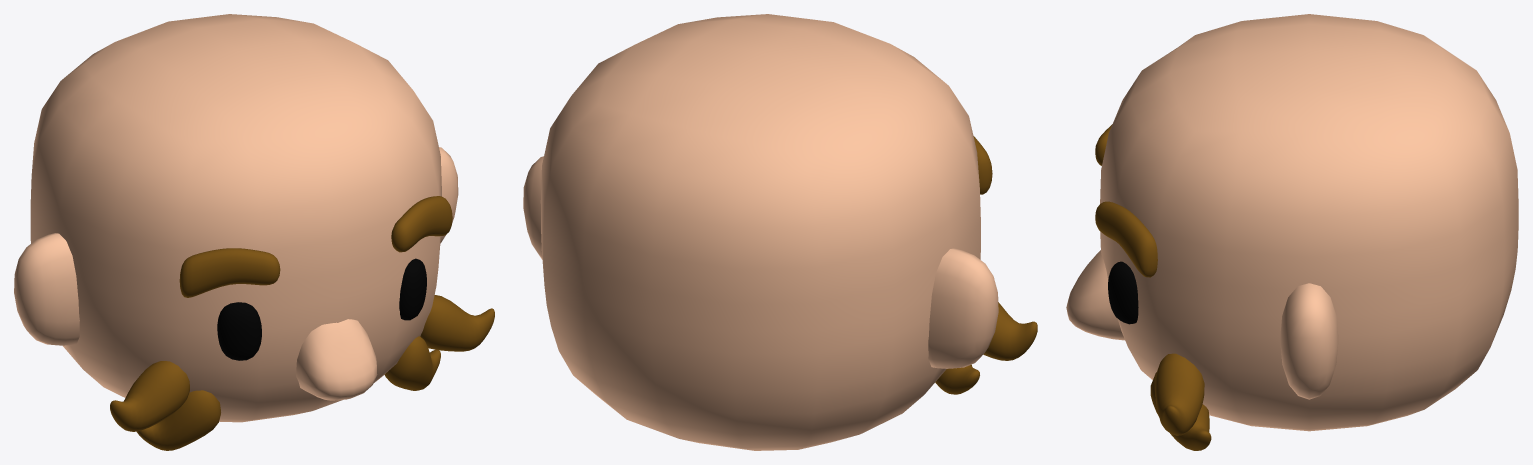
File: Pirate_Head5.fbx
The picture shows the model from 3 angles, left to right: view 1: azimuth 30°, elevation 25°; view 2: azimuth 150°, elevation 25°; view 3: azimuth 270°, elevation 25°; orthographic projection. The views are drawn at different scales.
Visible parts, largest first — view 1: Pirate_Head5; view 2: Pirate_Head5; view 3: Pirate_Head5.
Part boxes in pixels (box(x1,y1,x2,y2)): Pirate_Head5: box(14, 14, 494, 450); Pirate_Head5: box(523, 14, 1037, 450); Pirate_Head5: box(1066, 14, 1518, 450).
Size of the model in its own units: 179 by 132 by 156.
